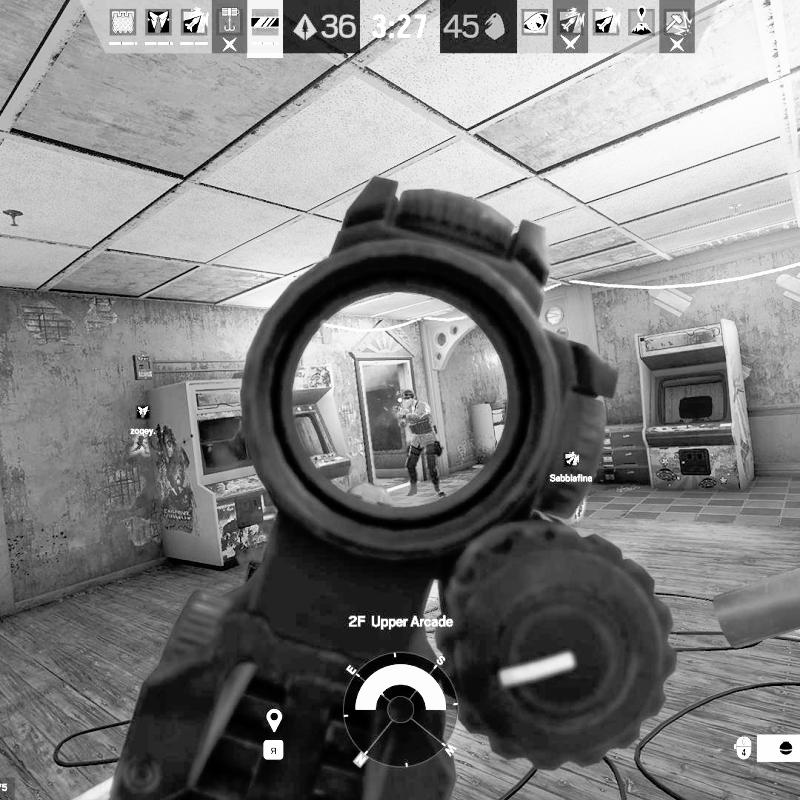Character: (394, 388, 448, 498)
Friend_label: (550, 450, 594, 484), (129, 404, 157, 436)
Head: (402, 390, 416, 408)
